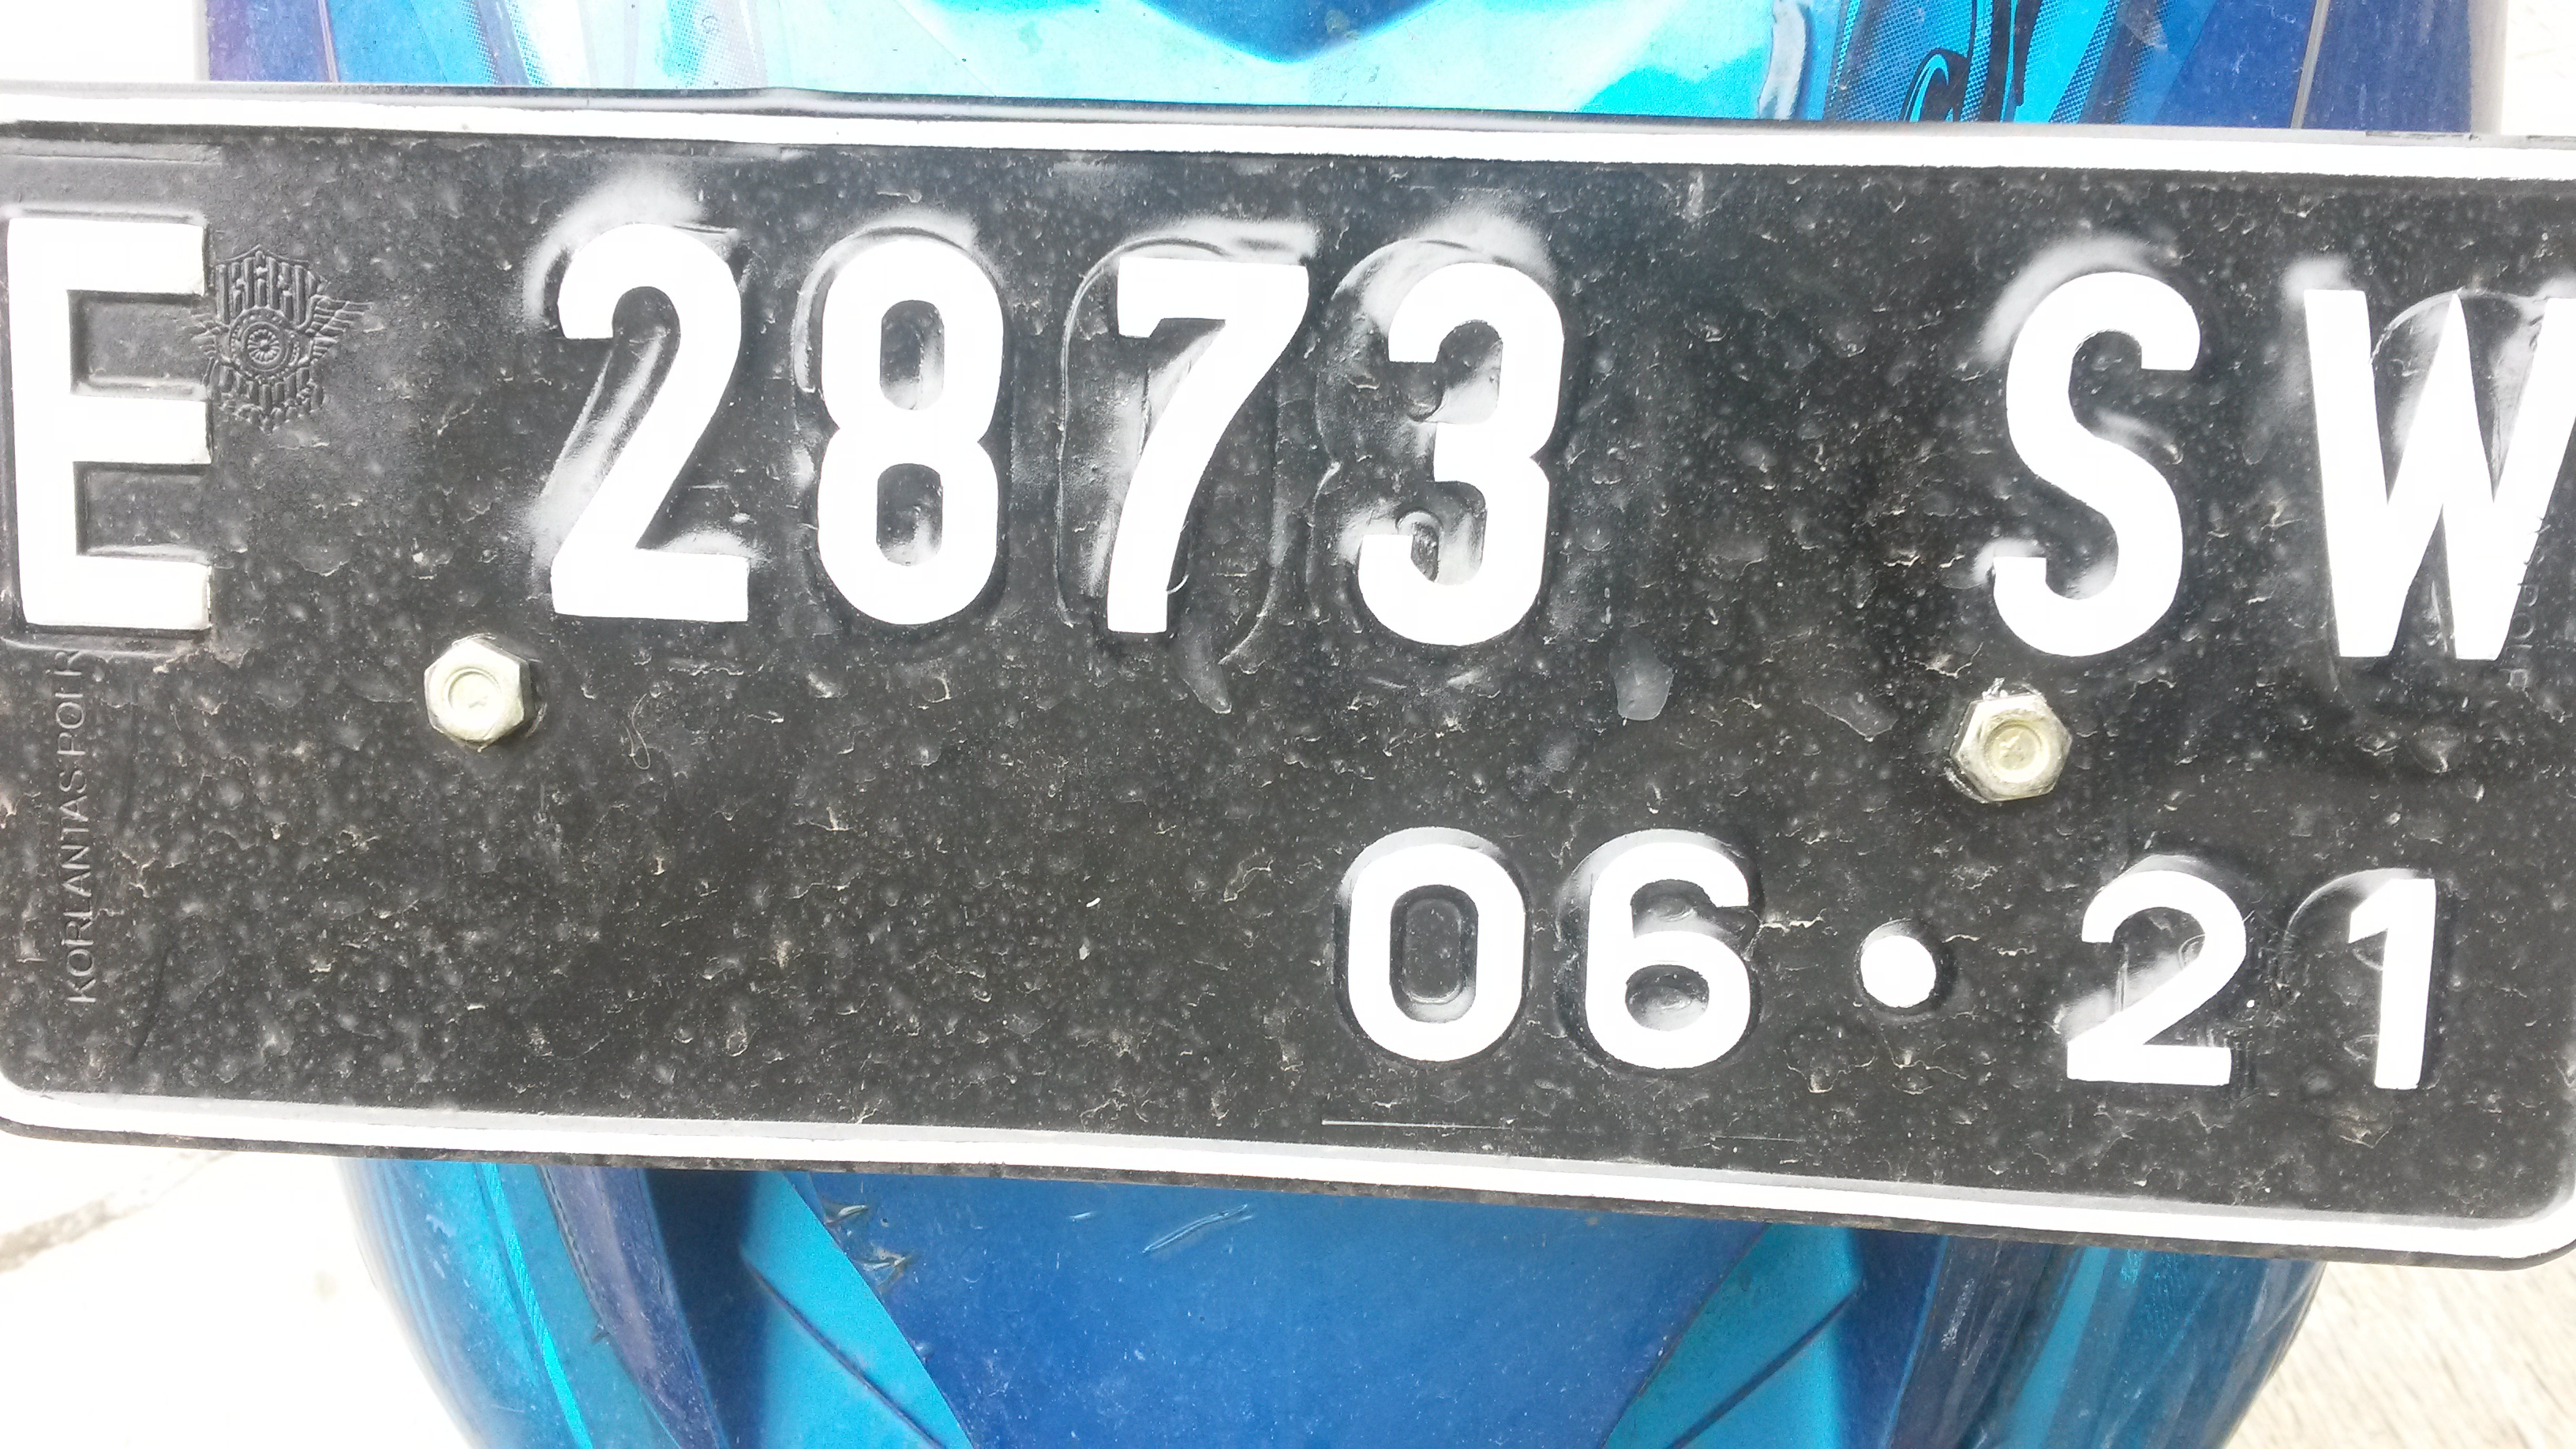plate: (1, 75, 2576, 1264)
